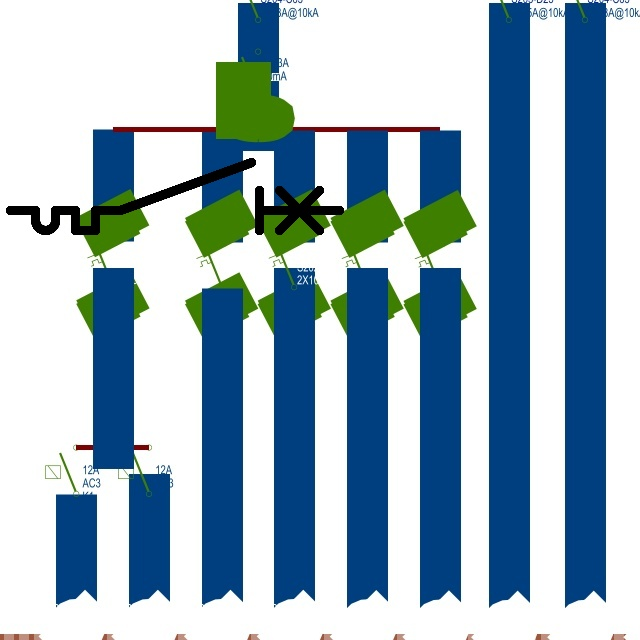interruptor_termomagnetico: (2, 154, 348, 239)
